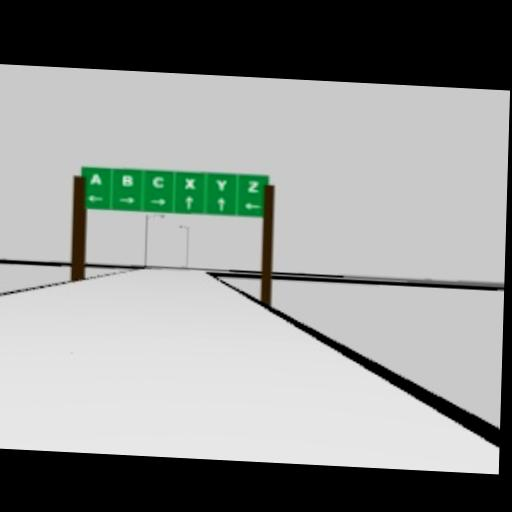A: (88, 173, 102, 186)
B: (121, 175, 133, 187)
C: (151, 174, 165, 189)
Left: (244, 201, 261, 209), (86, 193, 103, 201)
Right: (118, 195, 134, 203), (149, 197, 165, 204)
Straight: (216, 197, 227, 211), (183, 195, 194, 209)
X: (184, 176, 196, 188)
Y: (215, 177, 227, 190)
Z: (248, 179, 260, 192)
